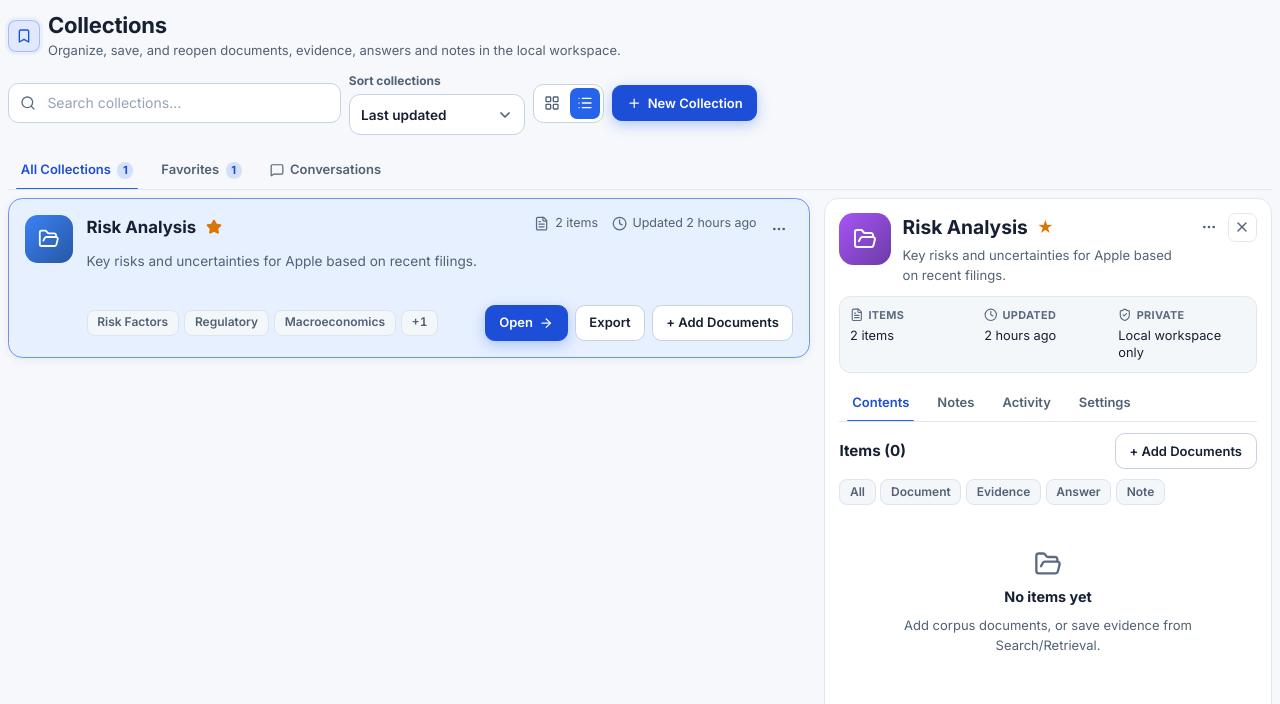
Test: CollectionsWorkspace › Settings opens the same confirmation and a conflict is visible without retry
Click the tab "Settings".
click(1105, 403)  # box left=1066, top=384, right=1144, bottom=421
(page scrolled)
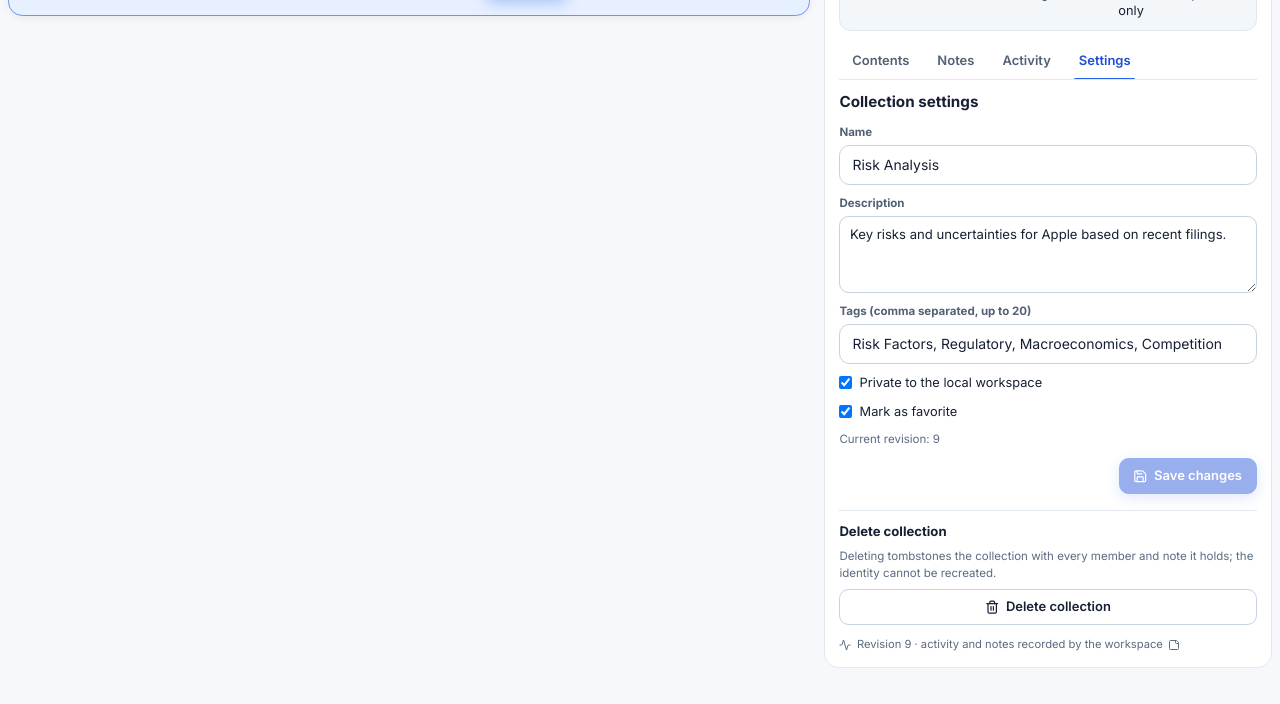
Expected: the tab "Settings" is selected, left=1066, top=42, right=1144, bottom=79
Click the button "Delete collection".
click(1048, 607)  # box left=839, top=589, right=1257, bottom=625
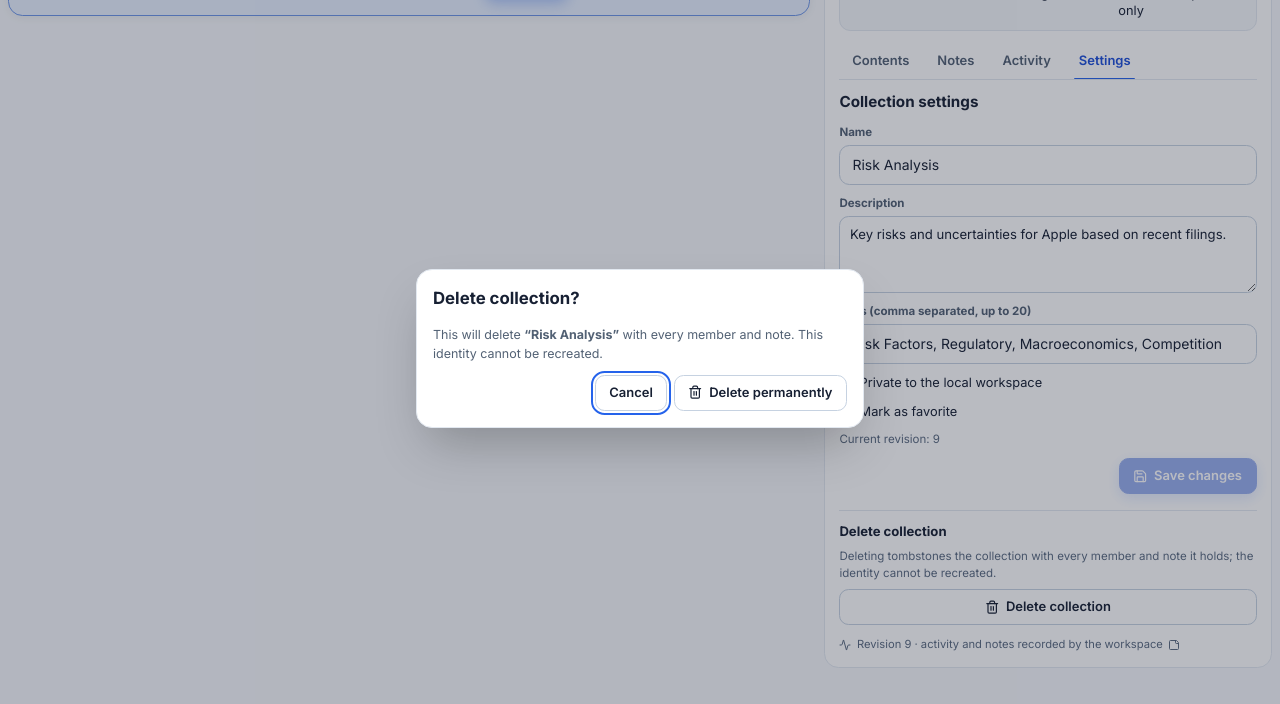
Click the button "Delete permanently".
click(760, 392)  # box left=674, top=374, right=847, bottom=410
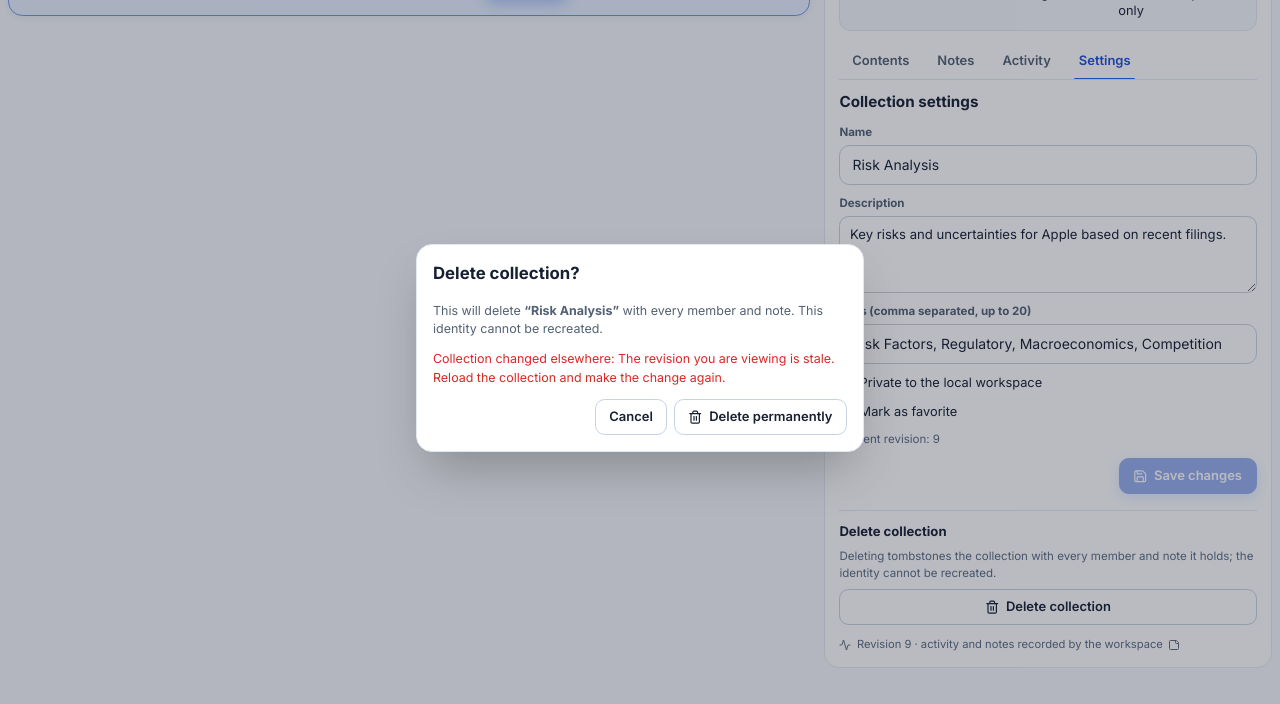
Expected: the message shows "changed elsewhere", left=433, top=351, right=835, bottom=385
